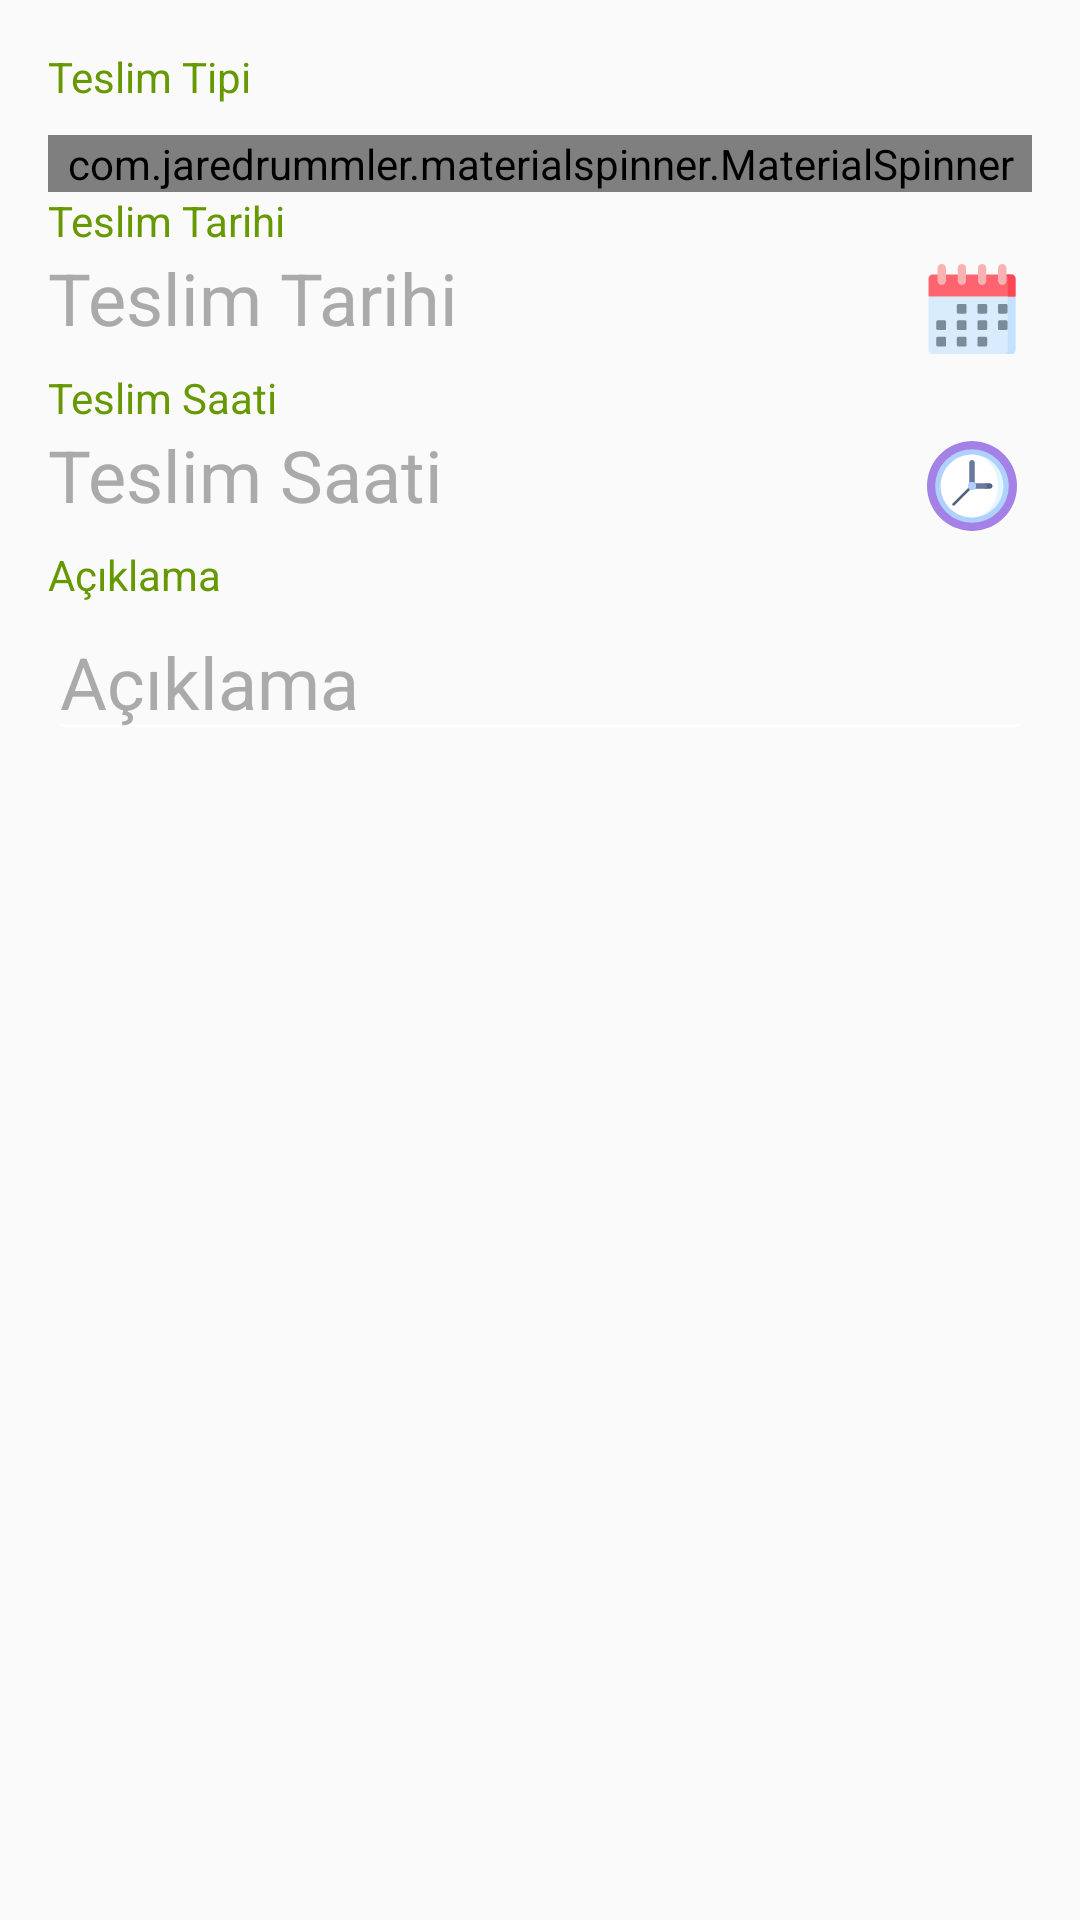

Point at icon controls on the screen. Image size 1080px x 1920px, points as point (x, y).
calendar: point (972, 309)
clock: point (972, 486)
